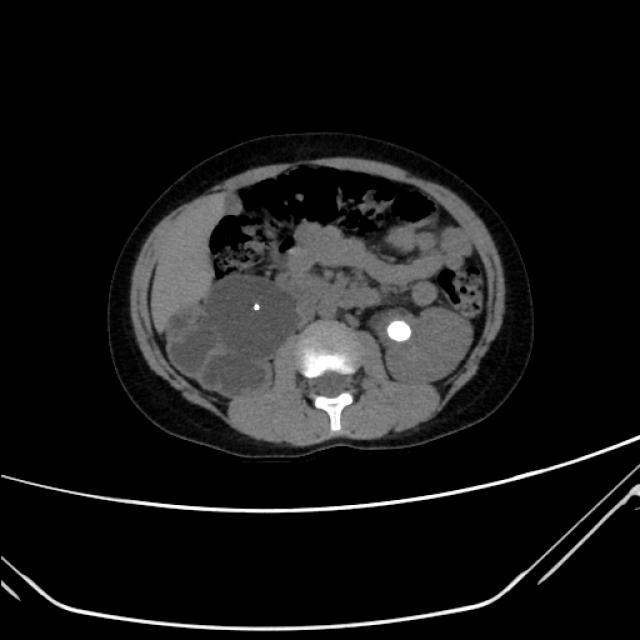kidney: (368, 302, 479, 388), (206, 269, 302, 363)
stone: (387, 316, 411, 345), (251, 300, 262, 311)
